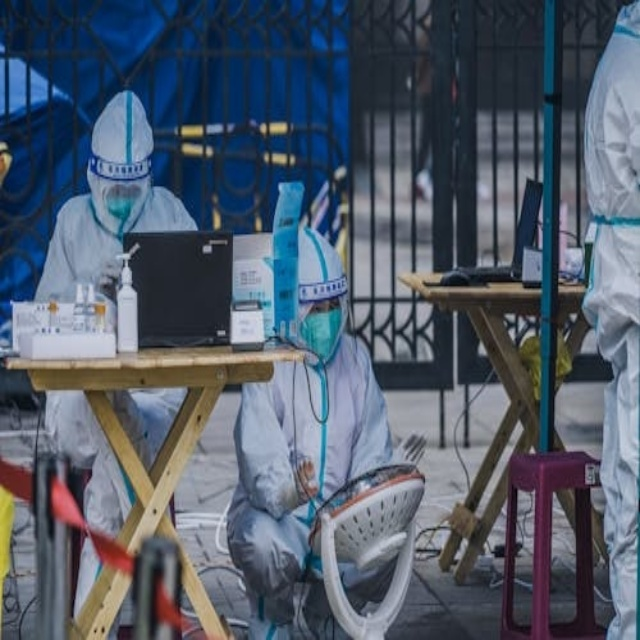Mascara: (301, 309, 348, 359), (104, 186, 143, 229)
